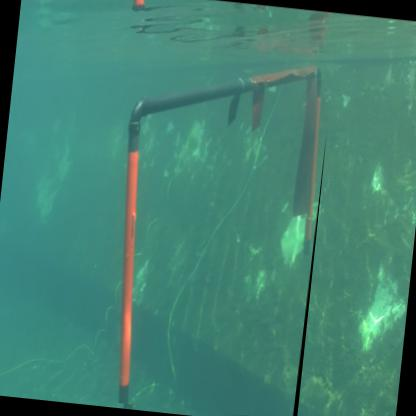gate: (95, 43, 337, 416)
